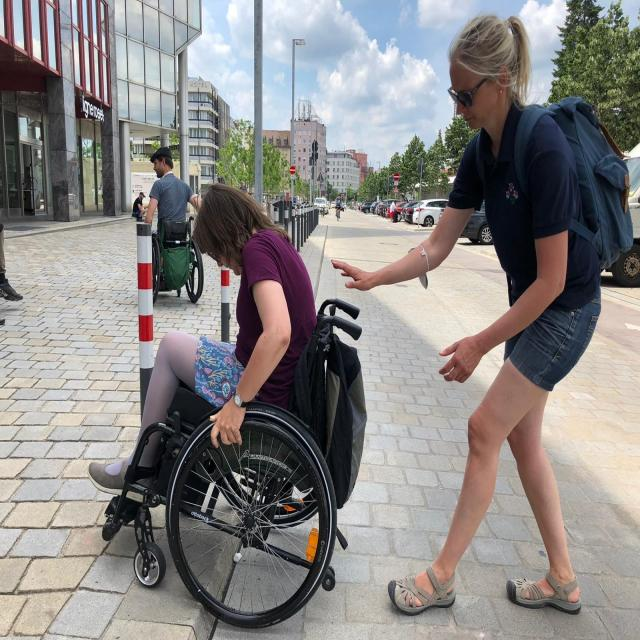wheelchairs: (75, 290, 386, 623)
